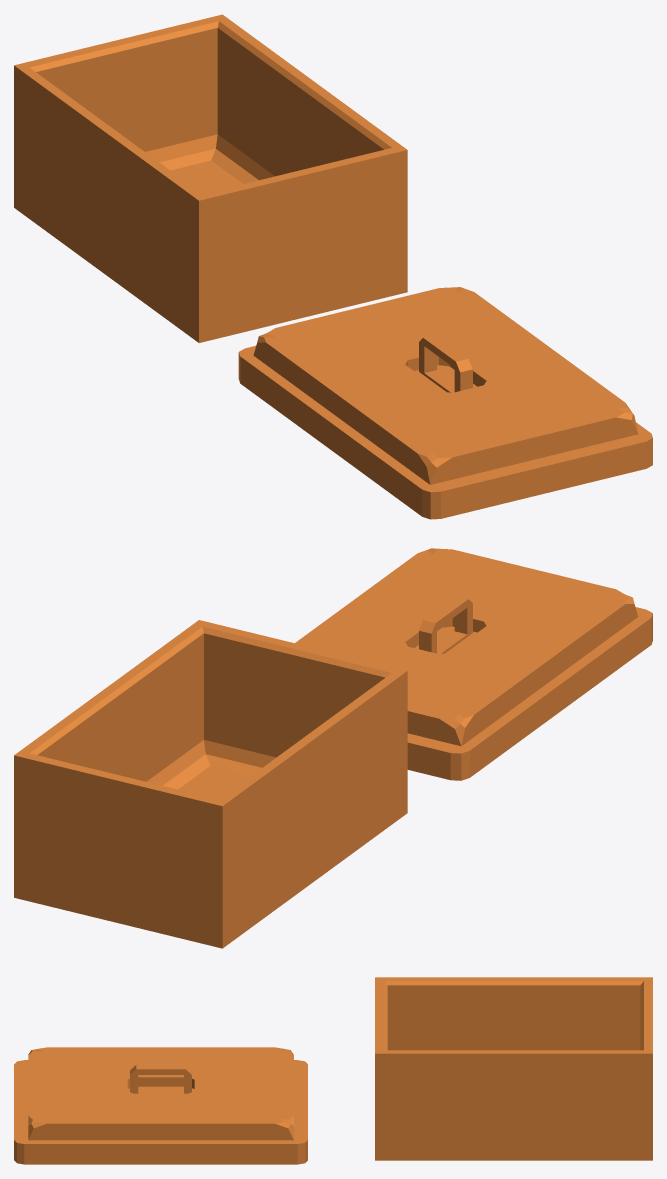
3 views of the same model, one above another, from view 1: azimuth 30°, elevation 25°; view 2: azimuth 150°, elevation 25°; view 3: azimuth 270°, elevation 25° (orthographic). The views are drawn at different scales.
Visible parts, largest first — view 1: Cube, Cube.001; view 2: Cube, Cube.001; view 3: Cube, Cube.001.
Part boxes in pixels (box(x1,y1,x2,y2)): Cube: box(14, 14, 407, 342); Cube.001: box(238, 287, 652, 519); Cube: box(14, 620, 407, 948); Cube.001: box(295, 548, 652, 780); Cube: box(375, 977, 652, 1160); Cube.001: box(14, 1047, 307, 1164).
Size of the model in its own units: 378 by 225 by 1216.
